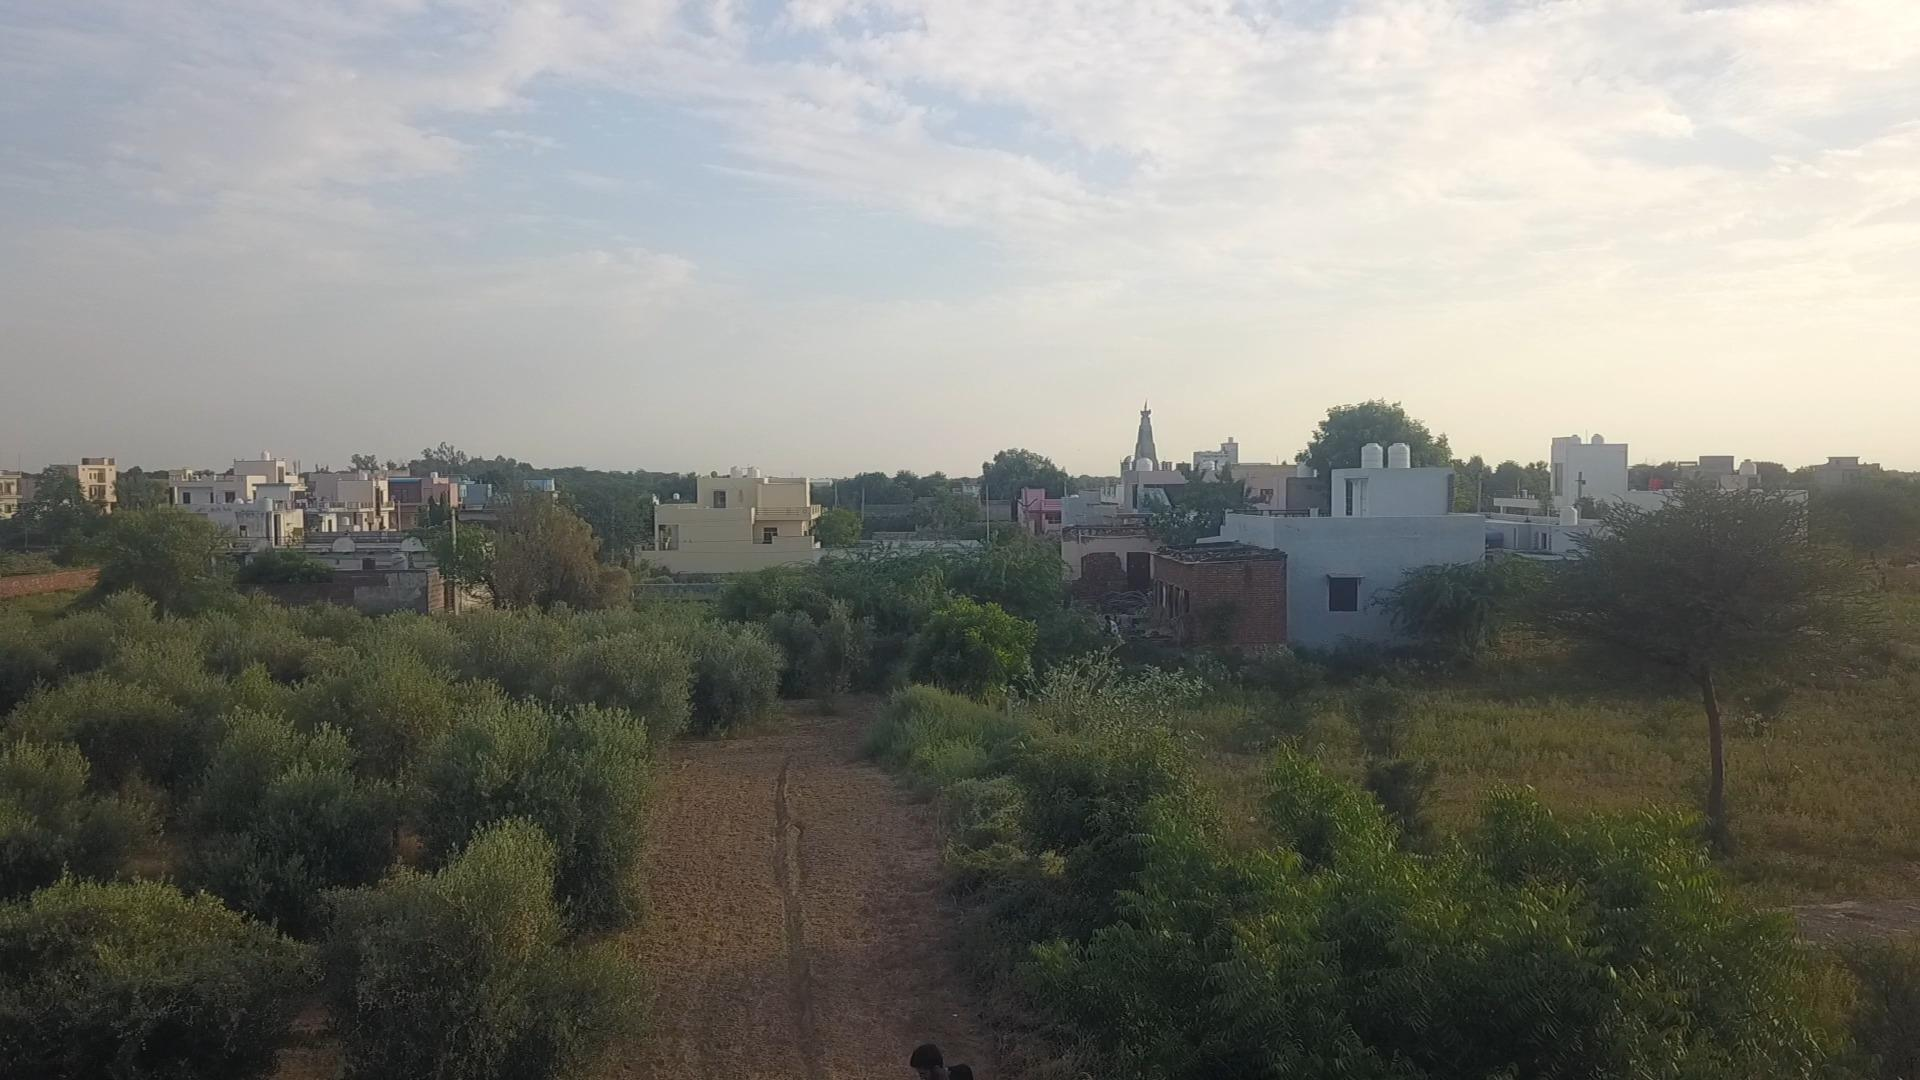canopy: (887, 644, 1832, 1079), (0, 588, 781, 1079)
road: (592, 702, 1006, 1079)
